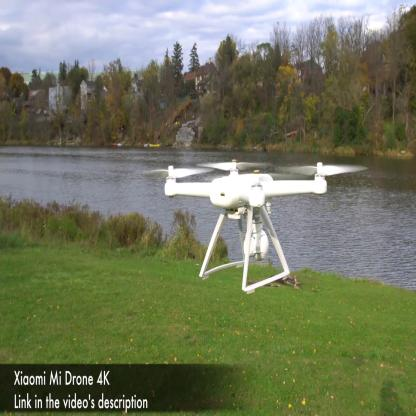drone: (151, 142, 368, 242)
